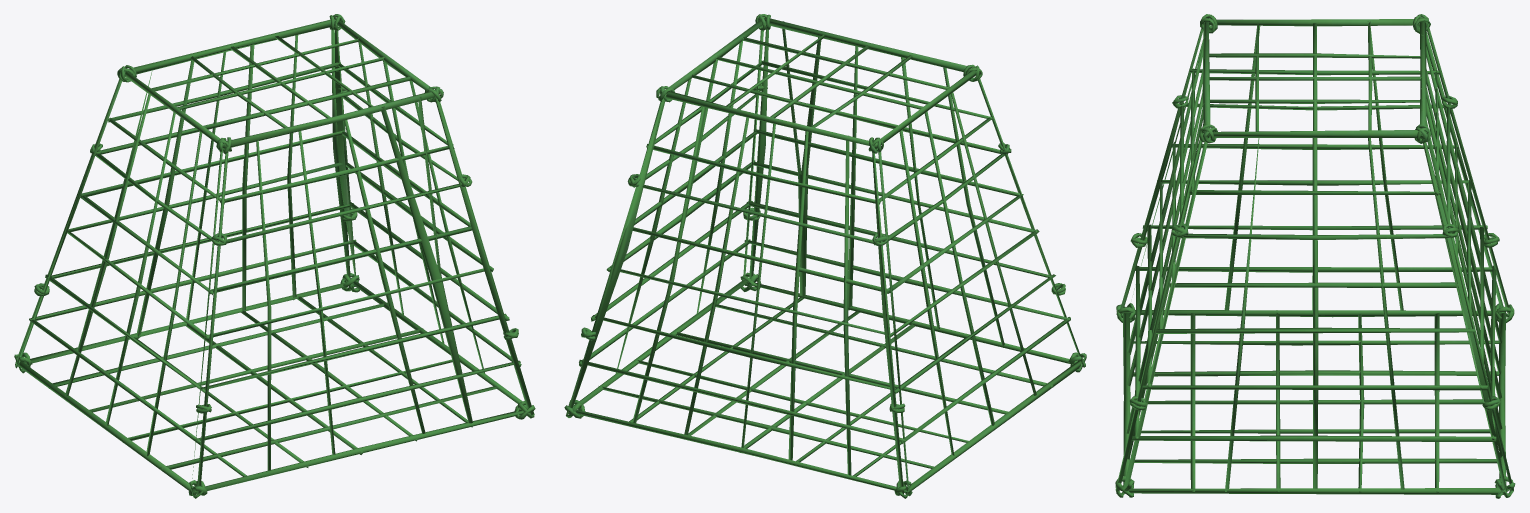
The model's file is chicken_cage.glb.
The picture shows the model from 3 angles, left to right: view 1: azimuth 30°, elevation 25°; view 2: azimuth 150°, elevation 25°; view 3: azimuth 270°, elevation 25°; orthographic projection. The views are drawn at different scales.
Parts seen in each view (by area): view 1: Mesh0; view 2: Mesh0; view 3: Mesh0.
Part boxes in pixels (left/top/right/bottom): Mesh0: left=14, top=14, right=535, bottom=498; Mesh0: left=564, top=14, right=1086, bottom=498; Mesh0: left=1115, top=14, right=1515, bottom=498.
Size of the model in its own units: 1 by 0.8921 by 0.9431.
1 material, 1 textured.
